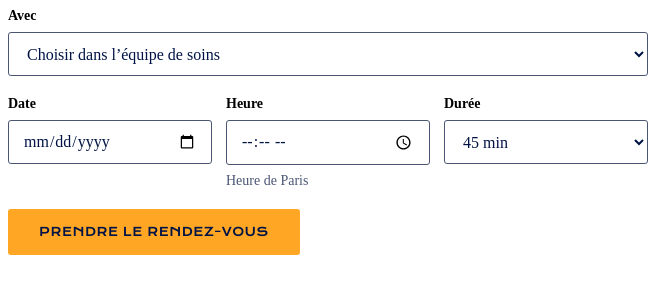
BookingForm › explains a taken slot instead of a generic error
Select "Jordan Praticien · Yoga" in the dropdown labelled "Avec": (328,54) [8,32,648,76]
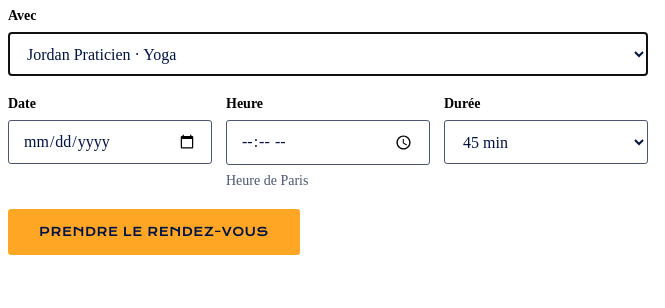
In the date field labelled "Date": (110,142) [8,120,212,164], type "2030-01-10"
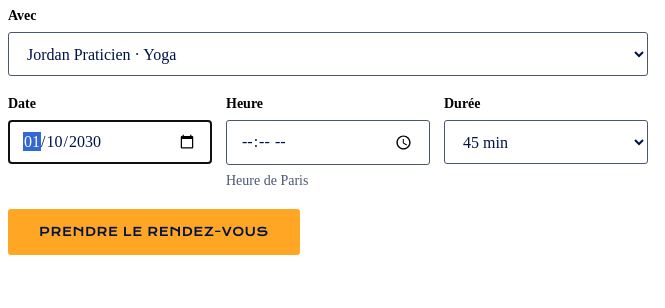
In the time field labelled "Heure": (328,142) [226,120,430,165], type "10:00"
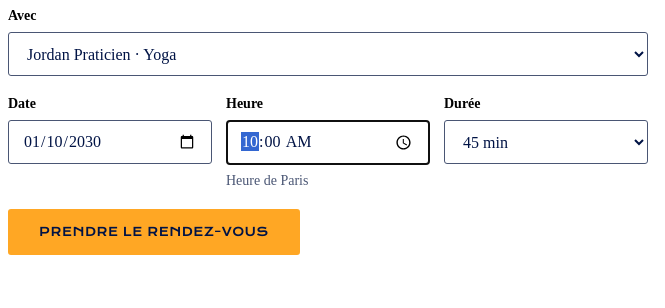
Click the button "Prendre le rendez-vous": (154,232) [8,209,300,255]
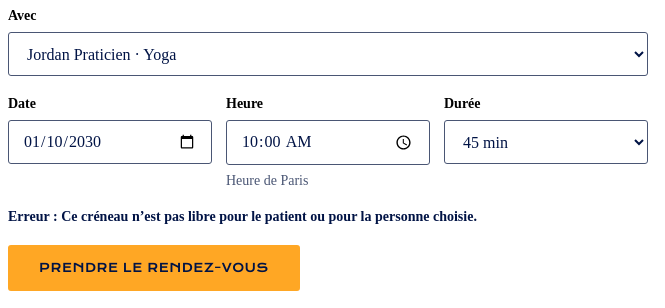
Check: the text "Ce créneau n’est pas libre pour le patient ou pour la personne choisie." is shown, box [8,209,477,225]
